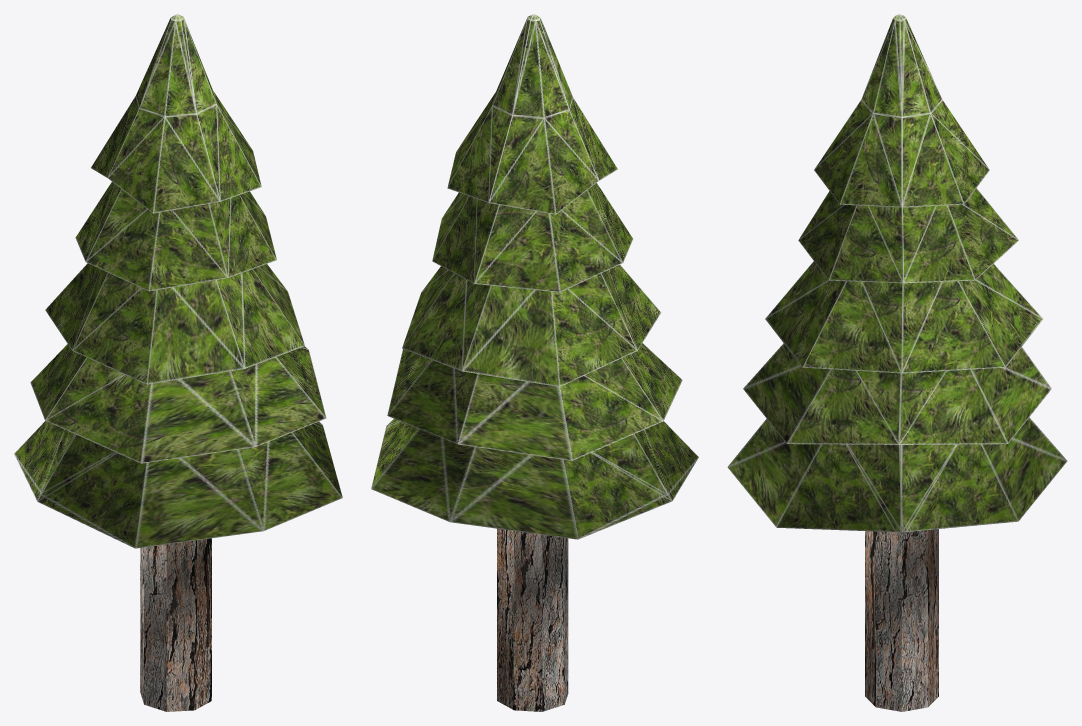
The model's file is pine1.fbx.
3 renders of one model, left to right at view 1: azimuth 30°, elevation 25°; view 2: azimuth 150°, elevation 25°; view 3: azimuth 270°, elevation 25°, orthographic.
Parts seen in each view (by area): view 1: pine2:Pine_06; view 2: pine2:Pine_06; view 3: pine2:Pine_06.
Boxes of the visible parts, x1,y1,x2,y2 form: pine2:Pine_06: (14, 14, 342, 711); pine2:Pine_06: (371, 14, 698, 711); pine2:Pine_06: (727, 14, 1067, 711).
Size of the model in its own units: 10.53 by 24.03 by 10.86.
1 material, 1 textured.
